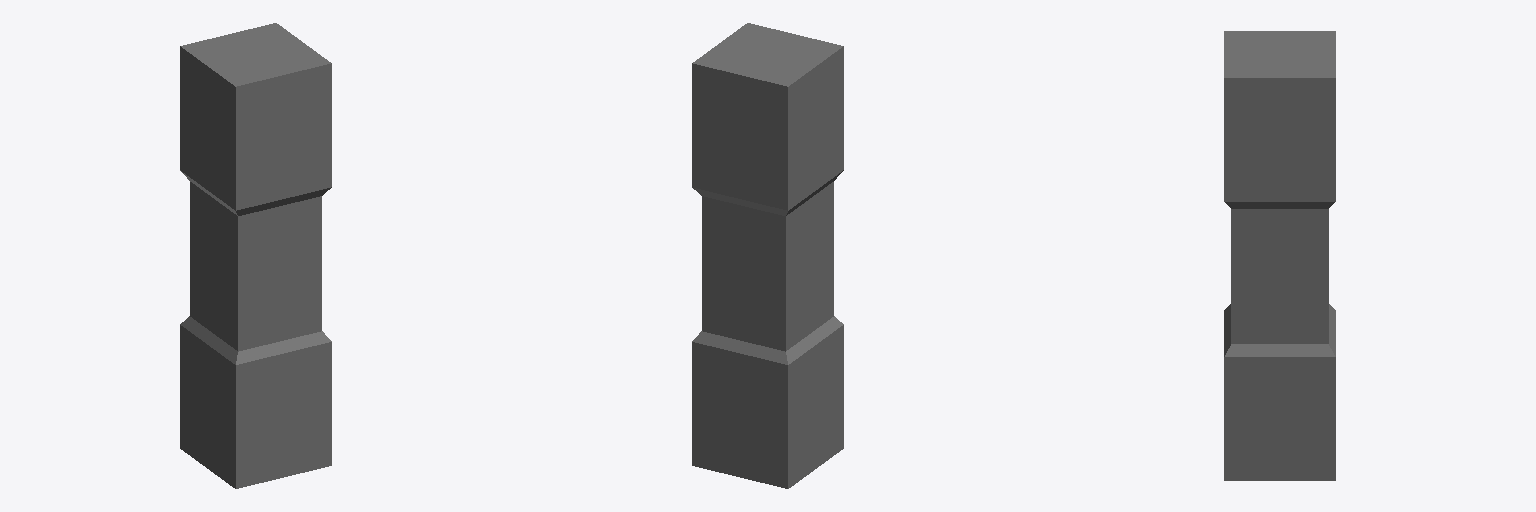
The model's file is Pillar_High.obj.
The picture shows the model from 3 angles: view 1: azimuth 30°, elevation 25°; view 2: azimuth 150°, elevation 25°; view 3: azimuth 270°, elevation 25°; orthographic projection.
Visible parts, largest first — view 1: polySurface83 polySurface82; view 2: polySurface83 polySurface82; view 3: polySurface83 polySurface82.
Boxes of the visible parts, box(x1,y1,x2,y2) form: polySurface83 polySurface82: box(180, 23, 331, 488); polySurface83 polySurface82: box(692, 23, 843, 488); polySurface83 polySurface82: box(1224, 31, 1335, 480).
Size of the model in its own units: 100 by 400 by 100.